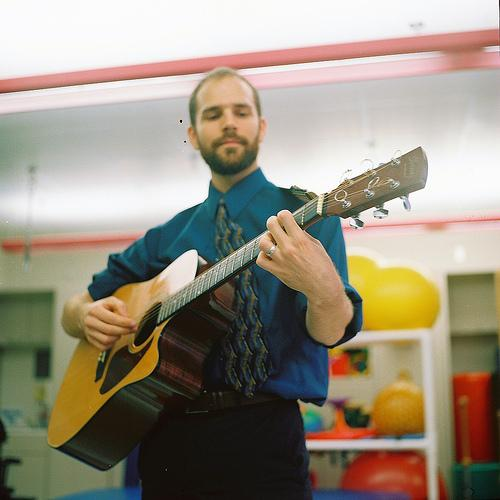person: (61, 67, 363, 500)
